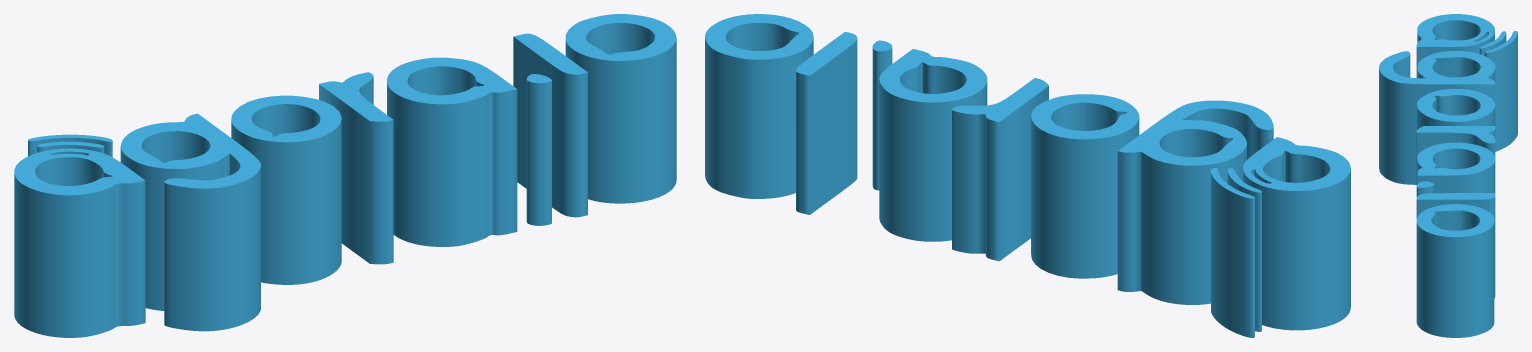
File: agora.fbx
The picture shows the model from 3 angles, left to right: view 1: azimuth 30°, elevation 25°; view 2: azimuth 150°, elevation 25°; view 3: azimuth 270°, elevation 25°; orthographic projection. The views are drawn at different scales.
Parts seen in each view (by area): view 1: path174; view 2: path174; view 3: path174.
Part boxes in pixels (<box>): path174: <box>14,14,676,337</box>; path174: <box>705,14,1350,337</box>; path174: <box>1379,14,1517,337</box>.
Size of the model in its own units: 357 by 75.3 by 93.91.
